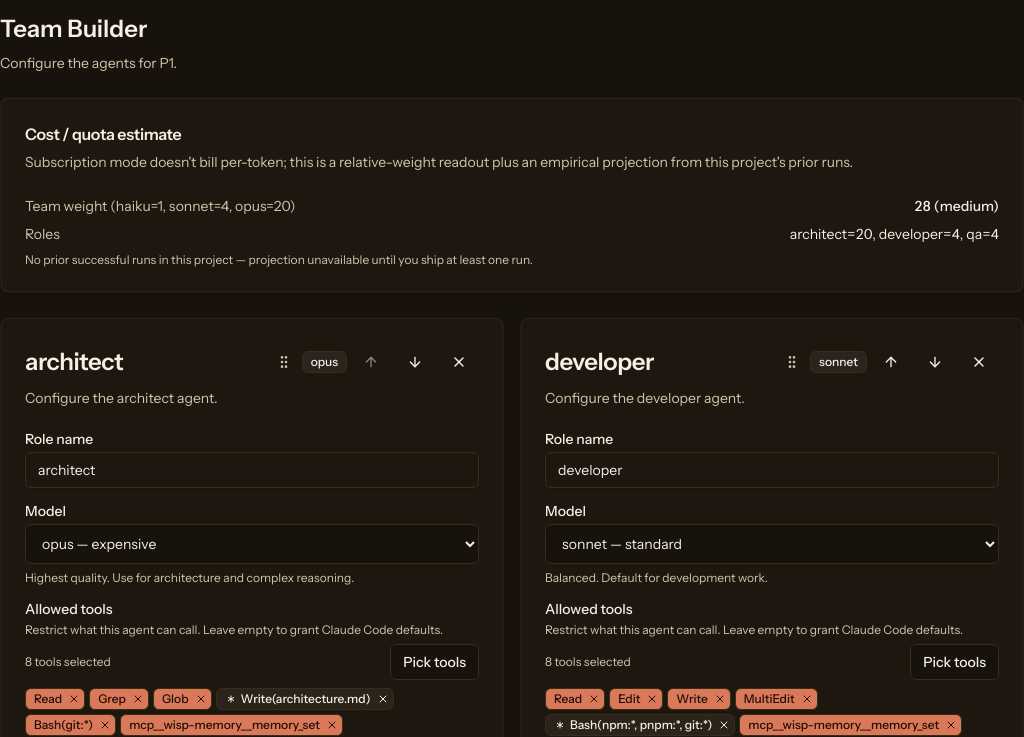
Test: TeamBuilder › flags duplicate role names and blocks save
Expected: the text "opus" is shown, x1=302 y1=351 x2=347 y2=373
Replace the text in the field with test id "role-name-1" with "architect" at point(772, 470), box x1=545 y1=452 x2=999 y2=488
(page scrolled)
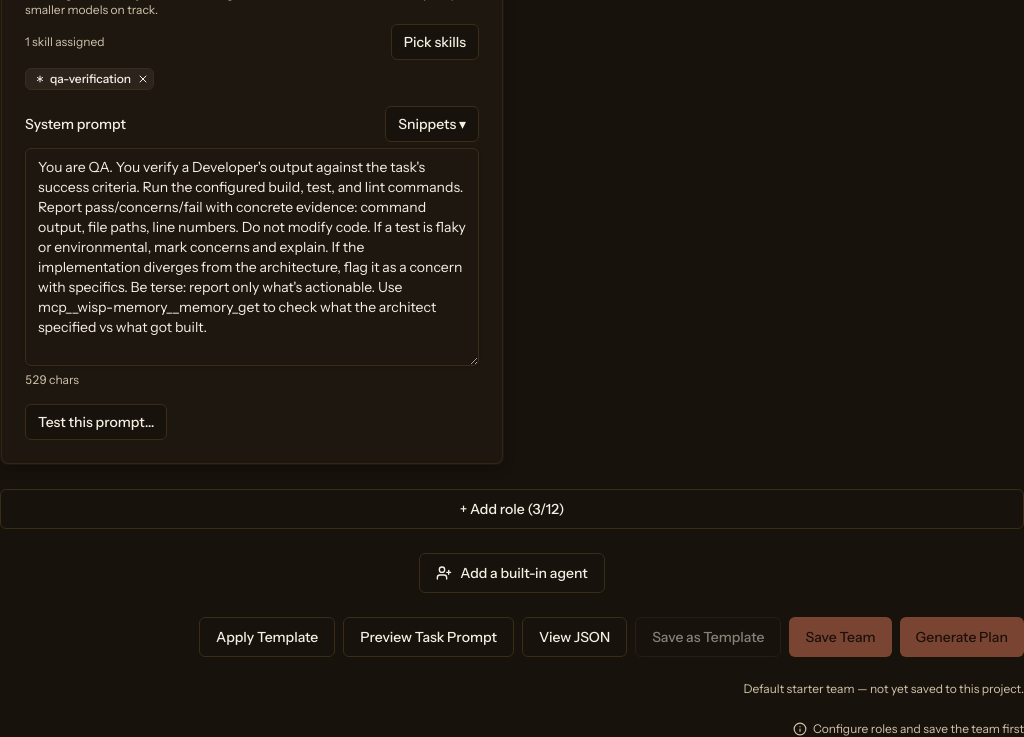
Result: the button "Save Team" is disabled at x1=790 y1=617 x2=892 y2=657
